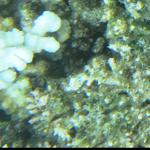dead: (1, 1, 147, 144)
